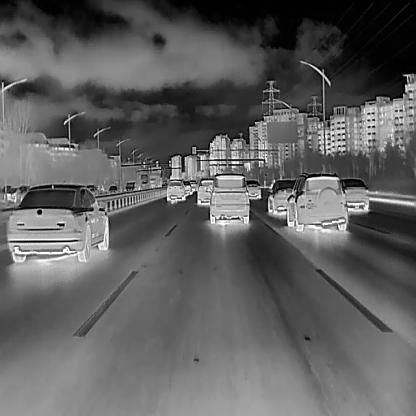car: (4, 182, 110, 262), (284, 169, 348, 230), (204, 173, 249, 223), (338, 176, 370, 213), (267, 178, 297, 214), (196, 177, 218, 206), (164, 179, 186, 202), (245, 177, 261, 200), (2, 184, 21, 200), (180, 180, 191, 196), (85, 184, 98, 196), (124, 180, 136, 192), (107, 184, 117, 195), (188, 177, 197, 189)
truck: (139, 172, 150, 188), (149, 174, 160, 188)
